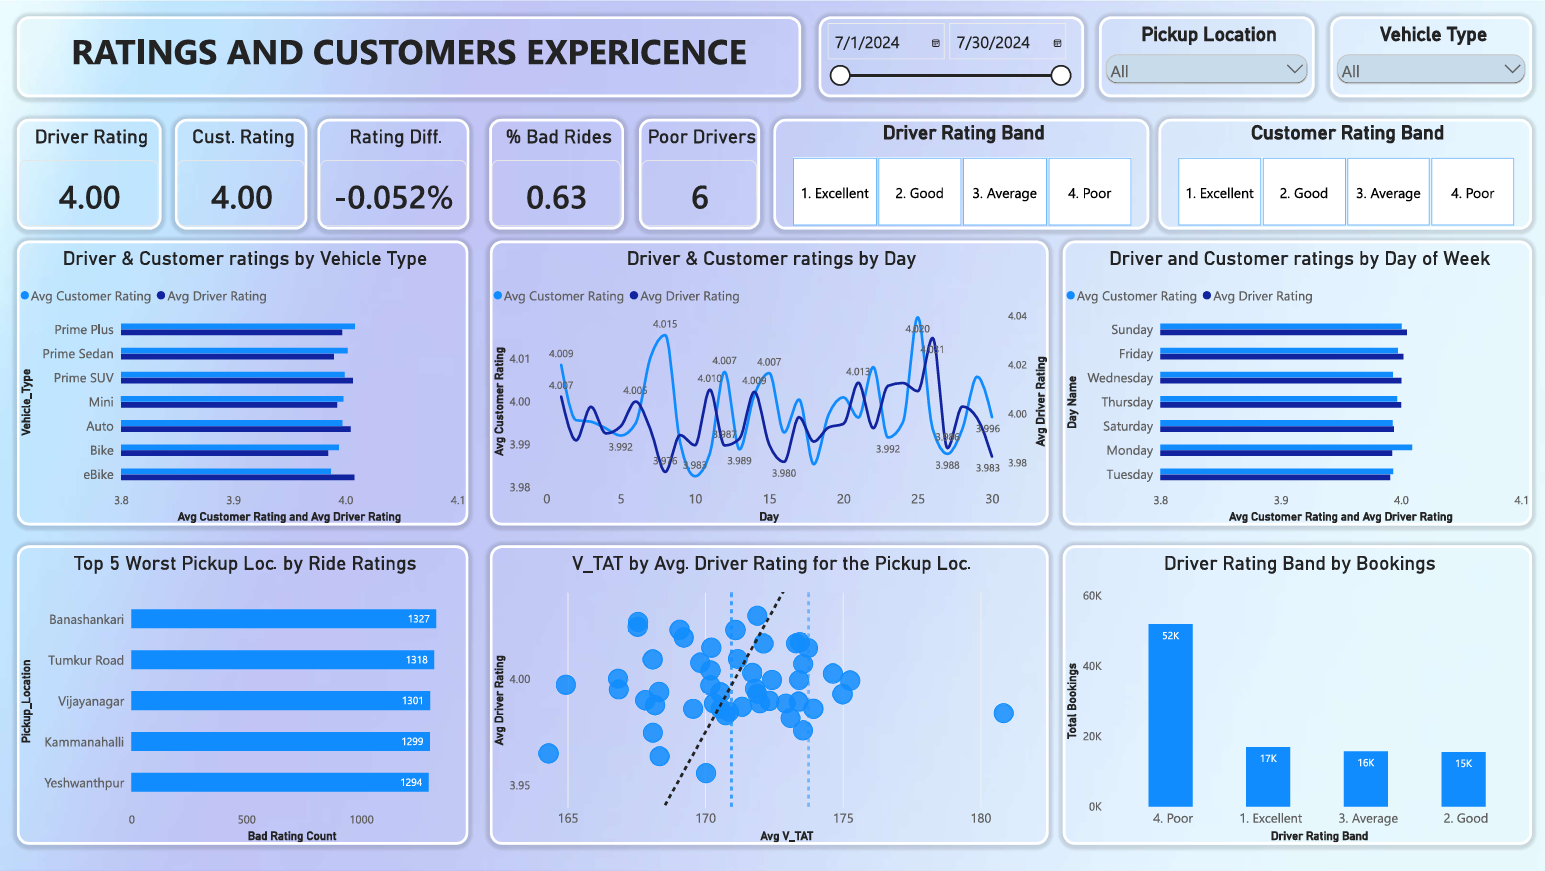

The dashboard page shown, as its layout file describes it:
{"tool":"powerbi","page":{"name":"Ratings and Customers","canvas":[1920,1080],"ordinal":4},"visuals":[{"type":"slicer","title":"DATE","fields":{"Values":["Bookings.Date"]},"box":[1017.2,19.6,328.4,100.5],"z":0},{"type":"slicer","title":"Pickup Location","fields":{"Values":["Bookings.Pickup_Location"]},"box":[1365.3,19.6,267.2,100.5],"z":1000},{"type":"slicer","title":"Vehicle Type","fields":{"Values":["Bookings.Vehicle_Type"]},"box":[1652,19.6,250,100.5],"z":2000},{"type":"slicer","title":"Customer Rating Band","fields":{"Values":["Bookings.Customer Rating Band"]},"box":[1438.8,147.1,463.3,137.3],"z":3000},{"type":"slicer","title":"Driver Rating Band","fields":{"Values":["Bookings.Driver Rating Band"]},"box":[960.8,147.1,465.7,137.3],"z":4000},{"type":"textbox","box":[22.1,19.6,973.1,100.5],"z":5000},{"type":"cardVisual","title":"Rating Diff.","fields":{"Data":["Bookings.Rating Gap"]},"box":[394.6,147.1,188.7,137.3],"z":6000},{"type":"cardVisual","title":"Cust. Rating","fields":{"Data":["Bookings.Avg Customer Rating"]},"box":[218.1,147.1,164.2,137.3],"z":7000},{"type":"cardVisual","title":"Driver Rating","fields":{"Data":["Bookings.Avg Driver Rating"]},"box":[22.1,147.1,178.9,137.3],"z":8000},{"type":"cardVisual","title":"% Bad Rides","fields":{"Data":["Bookings.Low Rated %"]},"box":[607.9,147.1,166.7,137.3],"z":9000},{"type":"cardVisual","title":"Poor Drivers","fields":{"Data":["Bookings.Poor Drivers"]},"box":[794.1,147.1,149.5,137.3],"z":10000},{"type":"columnChart","title":"Driver Rating Band by Bookings","fields":{"Category":["Bookings.Driver Rating Band"],"Y":["Bookings.Total Bookings"]},"box":[1320.2,675.8,581.8,371.4],"z":11000},{"type":"clusteredBarChart","title":"Driver & Customer ratings by Vehicle Type","fields":{"Category":["Bookings.Vehicle_Type"],"Y":["Bookings.Avg Customer Rating","Bookings.Avg Driver Rating"]},"box":[22.4,297.6,559.4,353.5],"z":12000},{"type":"clusteredBarChart","title":"Driver and Customer ratings by Day of Week","fields":{"Category":["Bookings.Day Name"],"Y":["Bookings.Avg Customer Rating","Bookings.Avg Driver Rating"]},"box":[1320.2,297.6,581.8,353.5],"z":13000},{"type":"scatterChart","title":"V_TAT by Avg. Driver Rating for the Pickup Loc.","fields":{"Category":["Bookings.Pickup_Location"],"Size":["Bookings.Total Bookings"],"X":["Bookings.Avg V_TAT"],"Y":["Bookings.Avg Driver Rating"]},"box":[608.6,675.8,693.7,371.4],"z":13001},{"type":"lineChart","title":"Driver & Customer ratings by Day","fields":{"Category":["Bookings.Date.Variation.Date Hierarchy.Day"],"Y":["Bookings.Avg Customer Rating"],"Y2":["Bookings.Avg Driver Rating"]},"box":[608.6,297.6,693.7,353.5],"z":13002},{"type":"barChart","title":"Top 5 Worst Pickup Loc. by Ride Ratings","fields":{"Category":["Bookings.Pickup_Location"],"Y":["Bookings.Bad Rating Count"]},"box":[22.4,675.8,559.4,371.4],"z":13003}]}

Visuals, with their boxes in screenshot pixels (x1, y1, x2, y2), scaled from the page's 1920x1080 canvas onto the 1545x871 screenshot:
"DATE" slicer: [left=819, top=16, right=1083, bottom=97]
"Pickup Location" slicer: [left=1099, top=16, right=1314, bottom=97]
"Vehicle Type" slicer: [left=1329, top=16, right=1531, bottom=97]
"Customer Rating Band" slicer: [left=1158, top=119, right=1531, bottom=229]
"Driver Rating Band" slicer: [left=773, top=119, right=1148, bottom=229]
textbox: [left=18, top=16, right=801, bottom=97]
"Rating Diff." cardVisual: [left=318, top=119, right=469, bottom=229]
"Cust. Rating" cardVisual: [left=176, top=119, right=308, bottom=229]
"Driver Rating" cardVisual: [left=18, top=119, right=162, bottom=229]
"% Bad Rides" cardVisual: [left=489, top=119, right=623, bottom=229]
"Poor Drivers" cardVisual: [left=639, top=119, right=759, bottom=229]
"Driver Rating Band by Bookings" columnChart: [left=1062, top=545, right=1531, bottom=845]
"Driver & Customer ratings by Vehicle Type" clusteredBarChart: [left=18, top=240, right=468, bottom=525]
"Driver and Customer ratings by Day of Week" clusteredBarChart: [left=1062, top=240, right=1531, bottom=525]
"V_TAT by Avg. Driver Rating for the Pickup Loc." scatterChart: [left=490, top=545, right=1048, bottom=845]
"Driver & Customer ratings by Day" lineChart: [left=490, top=240, right=1048, bottom=525]
"Top 5 Worst Pickup Loc. by Ride Ratings" barChart: [left=18, top=545, right=468, bottom=845]
